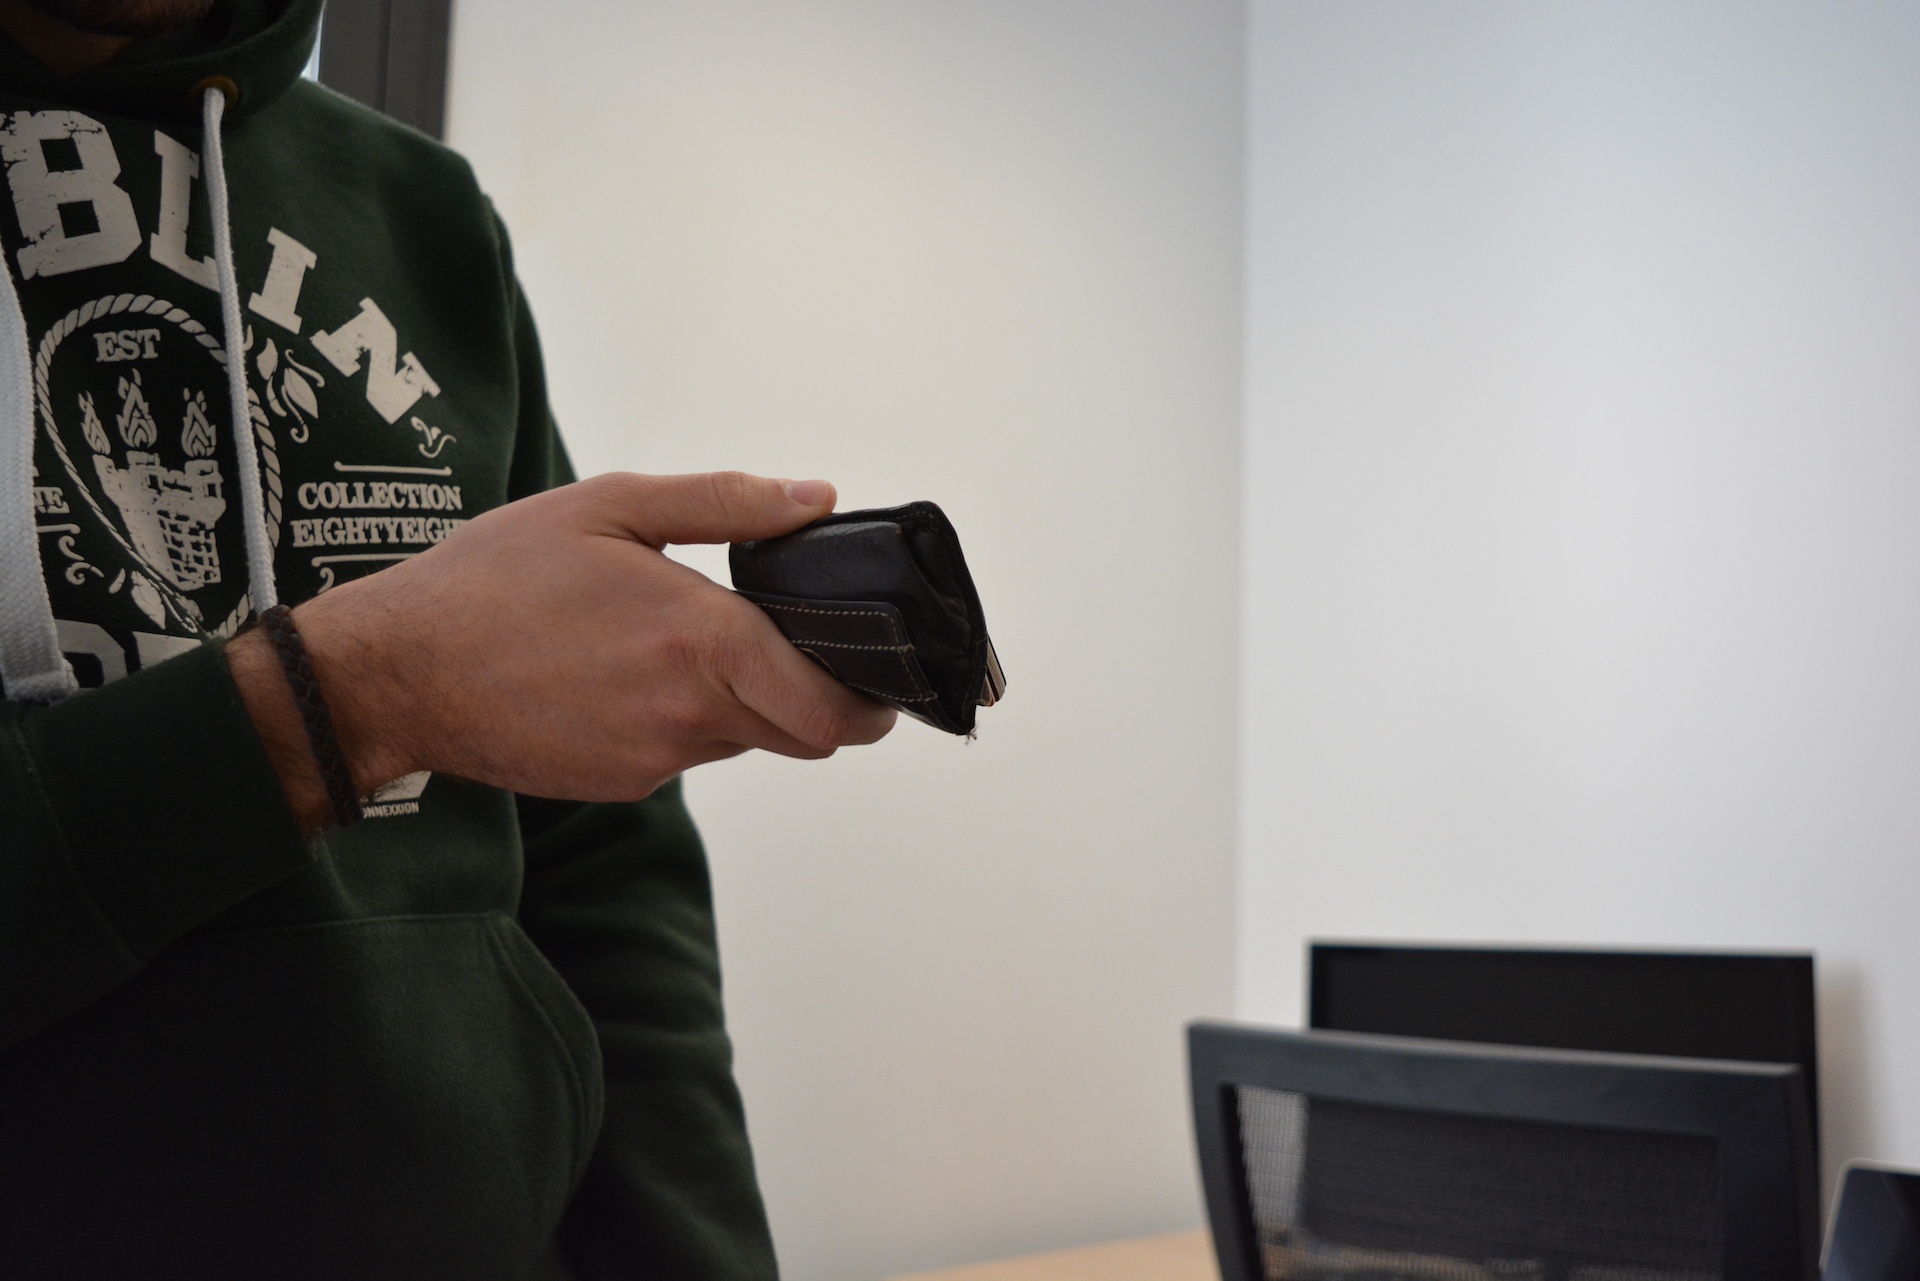monedero: (725, 499, 1009, 738)
